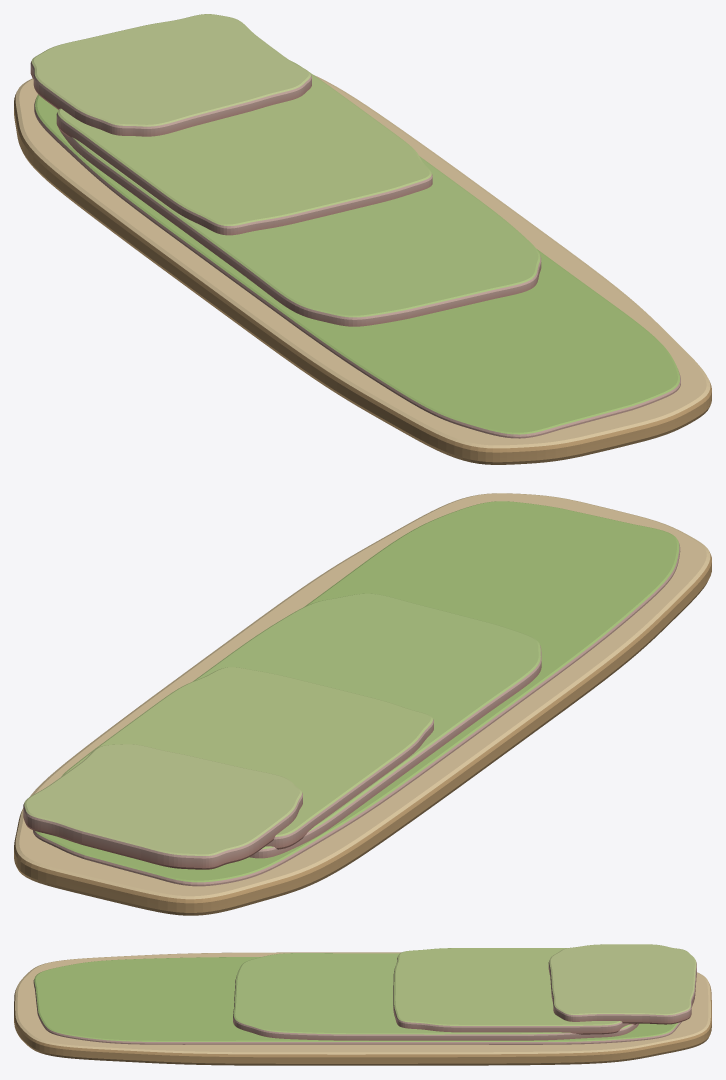
The model's file is terrain.glb.
3 views of the same model, one above another, from view 1: azimuth 30°, elevation 25°; view 2: azimuth 150°, elevation 25°; view 3: azimuth 270°, elevation 25° (orthographic). The views are drawn at different scales.
Parts seen in each view (by area): view 1: studio_terrain; view 2: studio_terrain; view 3: studio_terrain.
Boxes of the visible parts, x1,y1,x2,y2 form: studio_terrain: (14, 14, 711, 464); studio_terrain: (14, 493, 711, 915); studio_terrain: (14, 944, 711, 1065).
Size of the model in its own units: 40.2 by 6.65 by 115.
